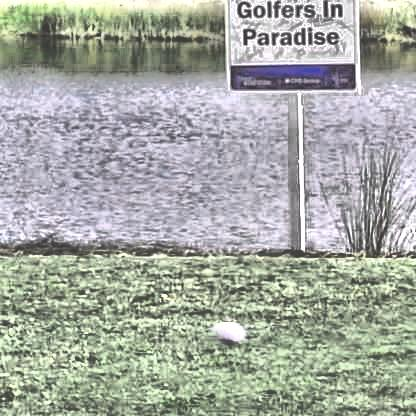golfball: (207, 315, 243, 349)
